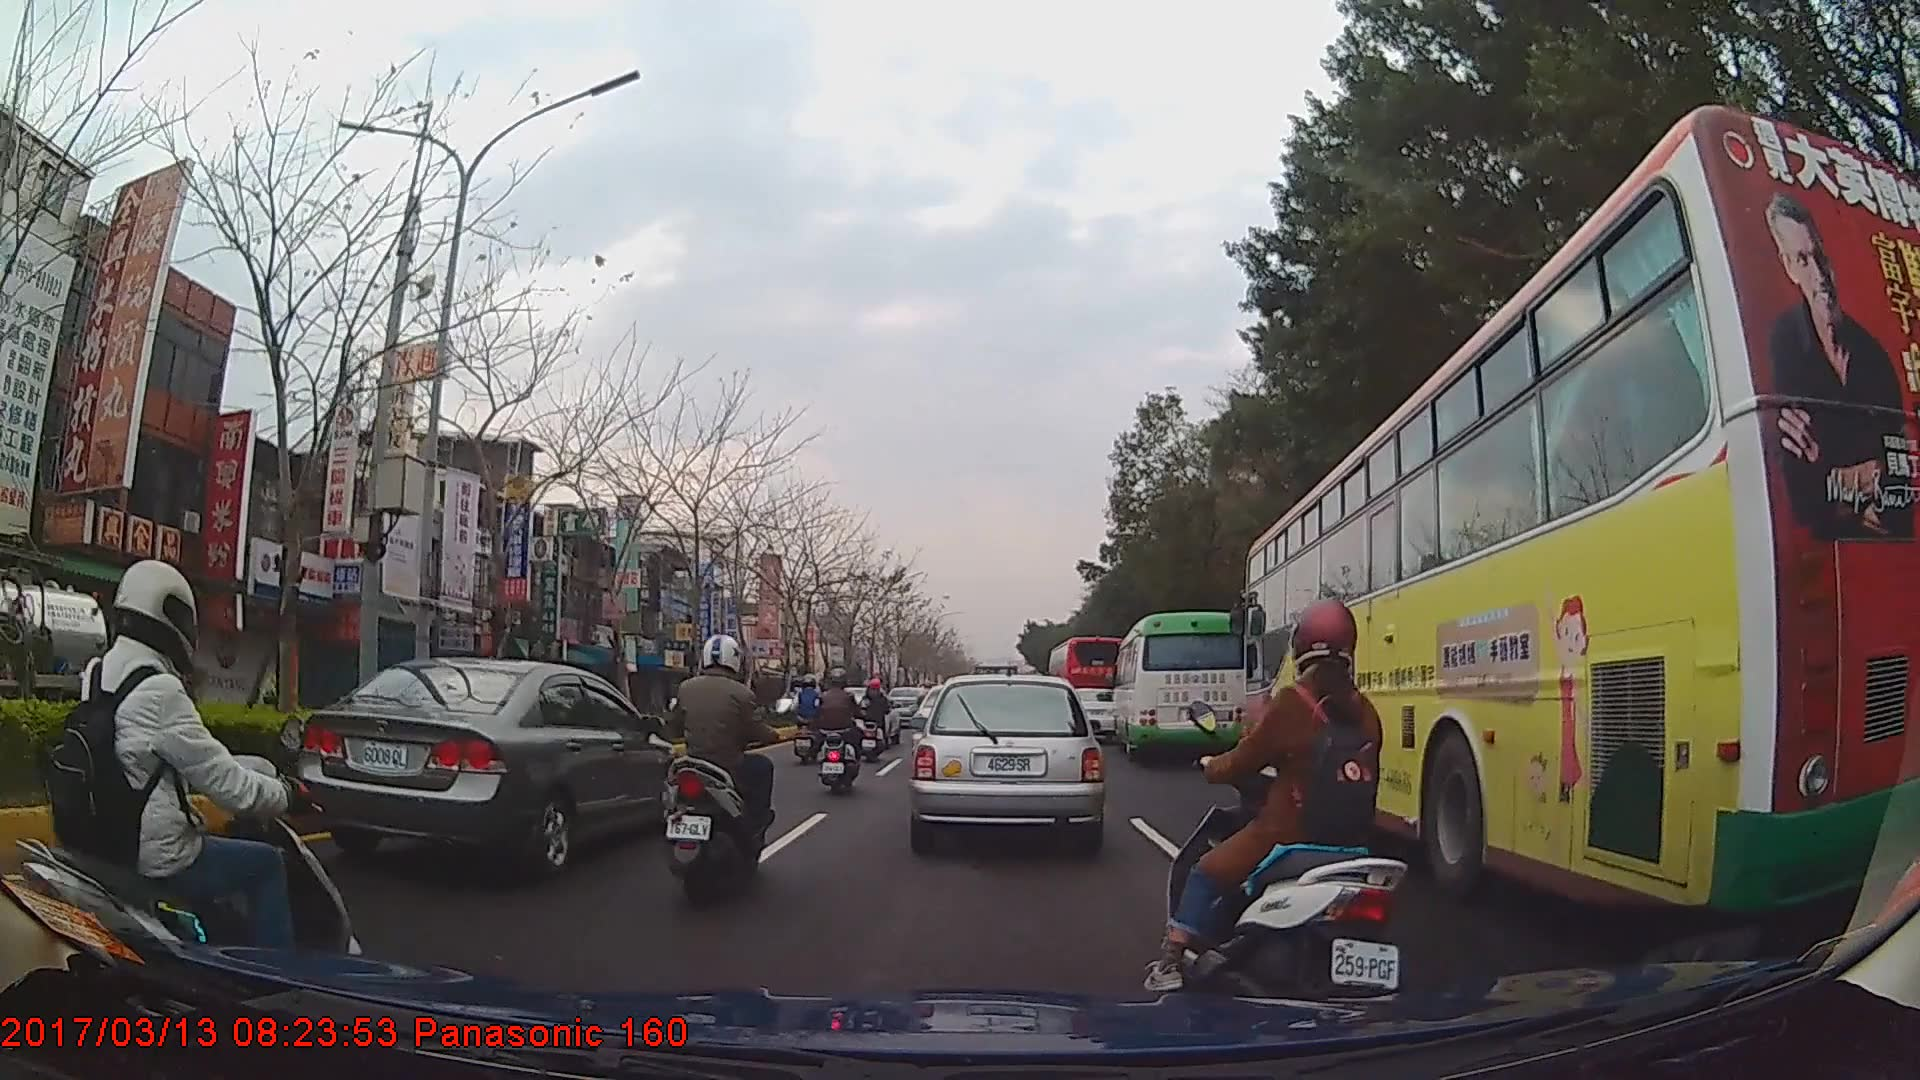rider: (18, 561, 357, 1003), (1139, 600, 1401, 1022), (662, 631, 793, 905), (814, 669, 860, 794), (856, 677, 891, 764), (792, 673, 830, 750)
vehicle: (1242, 102, 1919, 921), (295, 654, 684, 879), (910, 671, 1103, 850), (0, 563, 119, 755), (1110, 609, 1250, 762), (1046, 634, 1130, 733)
